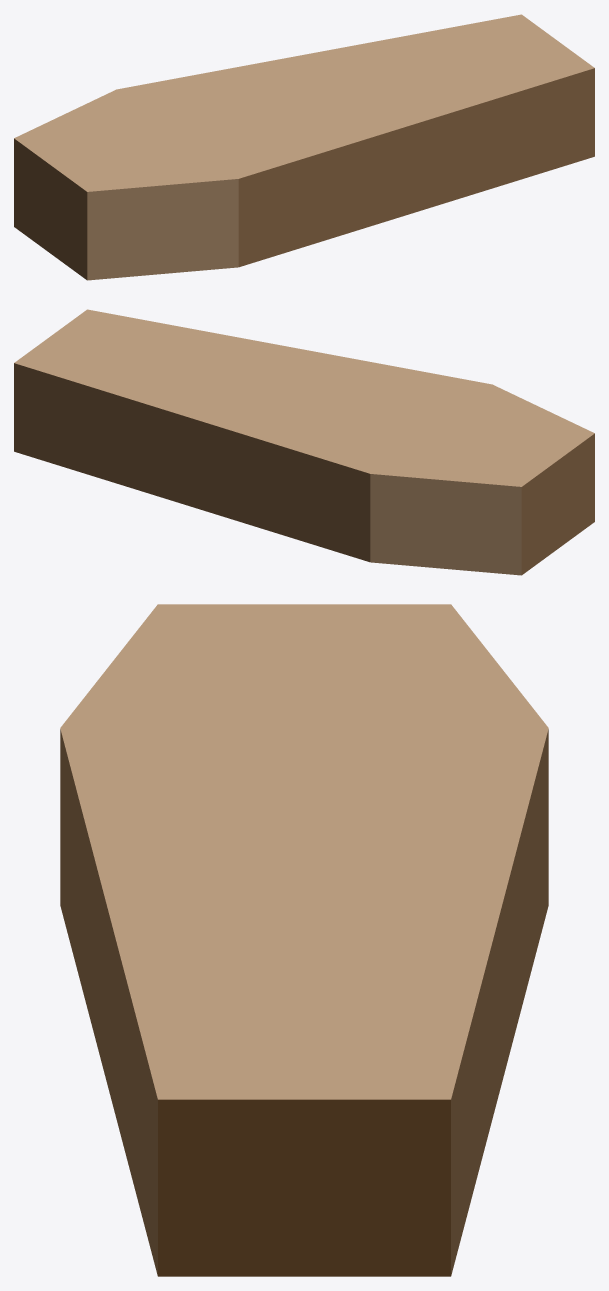
File: damocles-object-03f774.glb
3 views of the same model, one above another, from view 1: azimuth 30°, elevation 25°; view 2: azimuth 150°, elevation 25°; view 3: azimuth 270°, elevation 25° (orthographic). The views are drawn at different scales.
Parts seen in each view (by area): view 1: variant:record; view 2: variant:record; view 3: variant:record.
Boxes of the visible parts, x1,y1,x2,y2 form: variant:record: (14,14,594,280); variant:record: (14,309,594,575); variant:record: (60,604,548,1276).
Size of the model in its own units: 120 by 20 by 50.
